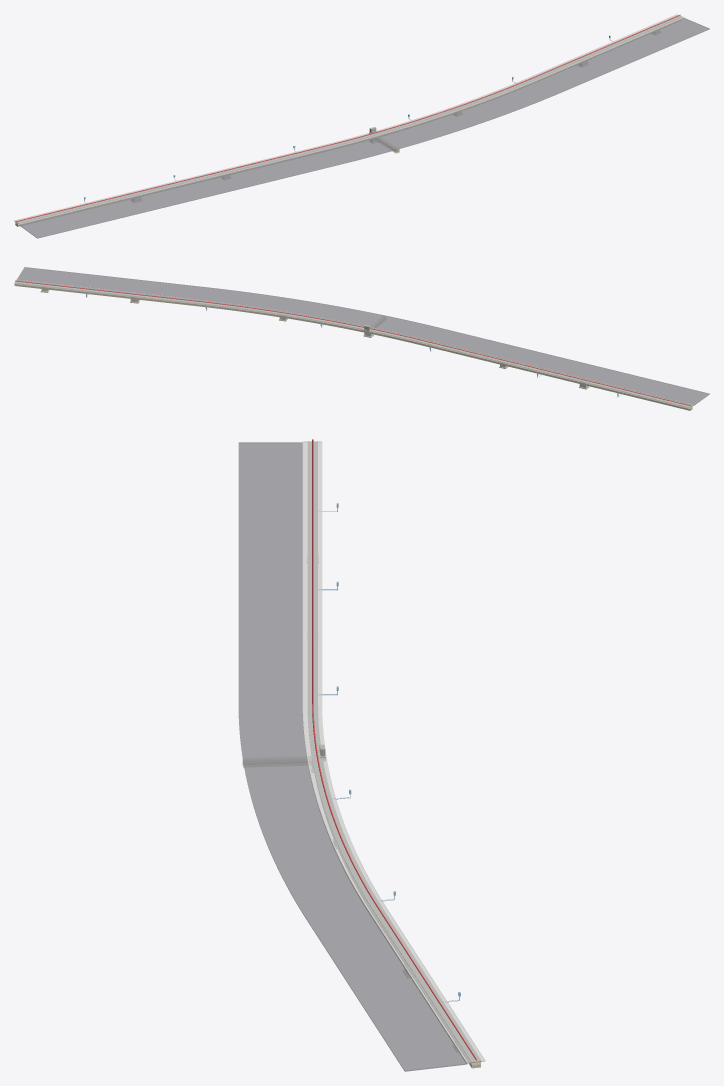
3 renders of one model, top to bottom at view 1: azimuth 30°, elevation 25°; view 2: azimuth 150°, elevation 25°; view 3: azimuth 270°, elevation 25°, orthographic. The views are drawn at different scales.
Visible parts, largest first — view 1: 道路|車道 (参考), 舗装|歩道舗装復旧 (t=19cm), 道路|歩道 (参考), 道路|歩車道境界ブロック (参考), 線形|管路ルート (中心線); view 2: 道路|車道 (参考), 道路|歩道 (参考), 舗装|歩道舗装復旧 (t=19cm), 土工|管路基礎 (砂 t=10cm) / 埋戻し砂, 道路|歩車道境界ブロック (参考), 線形|管路ルート (中心線), 土工|埋戻し (掘削断面); view 3: 道路|車道 (参考), 舗装|歩道舗装復旧 (t=19cm), 道路|歩道 (参考), 道路|歩車道境界ブロック (参考), 線形|管路ルート (中心線).
Part boxes in pixels (x1,y1,x2,y2): 道路|車道 (参考): (19,18,709,238); 舗装|歩道舗装復旧 (t=19cm): (15,15,682,223); 道路|歩道 (参考): (14,14,683,224); 道路|歩車道境界ブロック (参考): (19,17,684,224); 線形|管路ルート (中心線): (16,14,680,221); 道路|車道 (参考): (17,267,709,405); 道路|歩道 (参考): (14,280,693,408); 舗装|歩道舗装復旧 (t=19cm): (14,281,692,407); 土工|管路基礎 (砂 t=10cm) / 埋戻し砂: (14,284,692,410); 道路|歩車道境界ブロック (参考): (16,279,693,405); 線形|管路ルート (中心線): (15,280,691,406); 土工|埋戻し (掘削断面): (15,284,692,408); 道路|車道 (参考): (238,442,466,1071); 舗装|歩道舗装復旧 (t=19cm): (307,441,481,1062); 道路|歩道 (参考): (303,441,485,1063); 道路|歩車道境界ブロック (参考): (302,441,467,1064); 線形|管路ルート (中心線): (312,439,476,1060).
Bounding box in the file's own units: 240 × 3.95 × 39.86.
